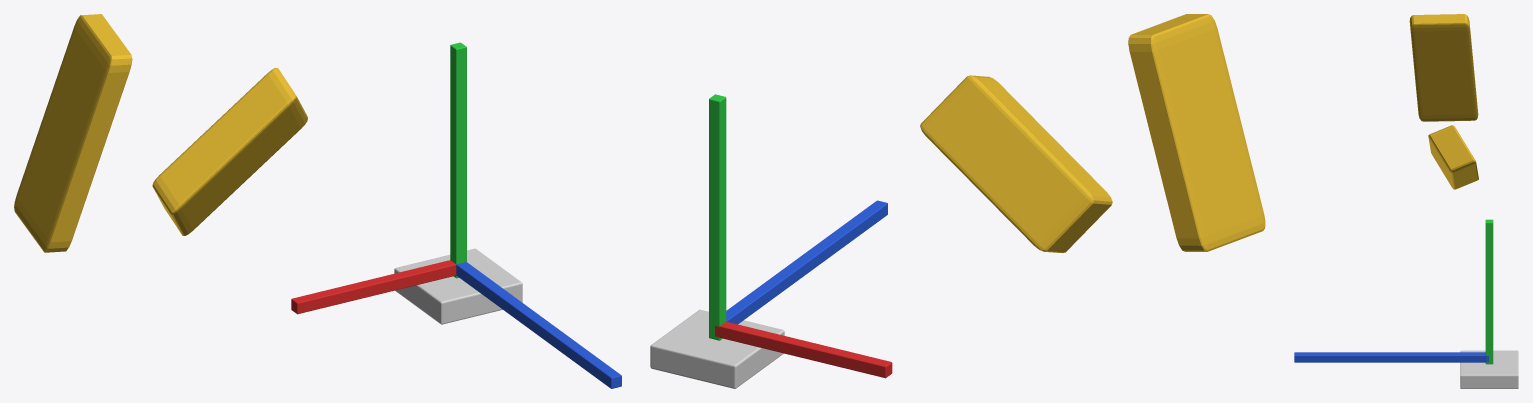
Rendered from hierarchy.glb.
3 renders of one model, left to right at view 1: azimuth 30°, elevation 25°; view 2: azimuth 150°, elevation 25°; view 3: azimuth 270°, elevation 25°, orthographic. The views are drawn at different scales.
Visible parts, largest first — view 1: nested_leaf_b, nested_leaf_a, axis_base, axis_positive_y, axis_forward_minus_z, axis_positive_x; view 2: nested_leaf_b, nested_leaf_a, axis_base, axis_positive_y, axis_forward_minus_z, axis_positive_x; view 3: nested_leaf_b, axis_forward_minus_z, nested_leaf_a, axis_base, axis_positive_y.
Boxes of the visible parts, left/top/right/bottom form: nested_leaf_b: left=14, top=14, right=132, bottom=252; nested_leaf_a: left=152, top=68, right=307, bottom=235; axis_base: left=394, top=248, right=522, bottom=324; axis_positive_y: left=450, top=42, right=466, bottom=278; axis_forward_minus_z: left=456, top=262, right=621, bottom=388; axis_positive_x: left=291, top=260, right=456, bottom=314; nested_leaf_b: left=1128, top=14, right=1265, bottom=251; nested_leaf_a: left=920, top=75, right=1112, bottom=253; axis_base: left=650, top=309, right=784, bottom=388; axis_positive_y: left=709, top=94, right=726, bottom=340; axis_forward_minus_z: left=726, top=200, right=887, bottom=324; axis_positive_x: left=715, top=321, right=892, bottom=378; nested_leaf_b: left=1409, top=14, right=1478, bottom=121; axis_forward_minus_z: left=1294, top=352, right=1488, bottom=362; nested_leaf_a: left=1428, top=125, right=1478, bottom=189; axis_base: left=1460, top=350, right=1518, bottom=388; axis_positive_y: left=1485, top=219, right=1493, bottom=364.
Size of the model in its own units: 1.86 by 1.38 by 1.15.
